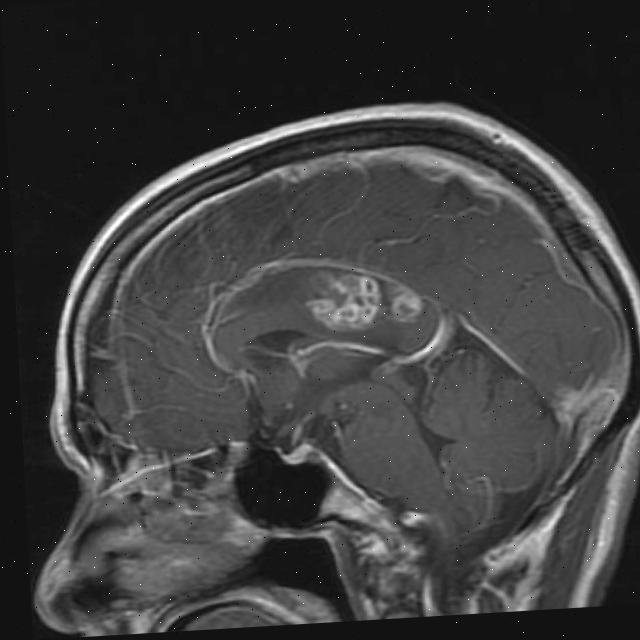Glioma: (300, 268, 425, 334)
